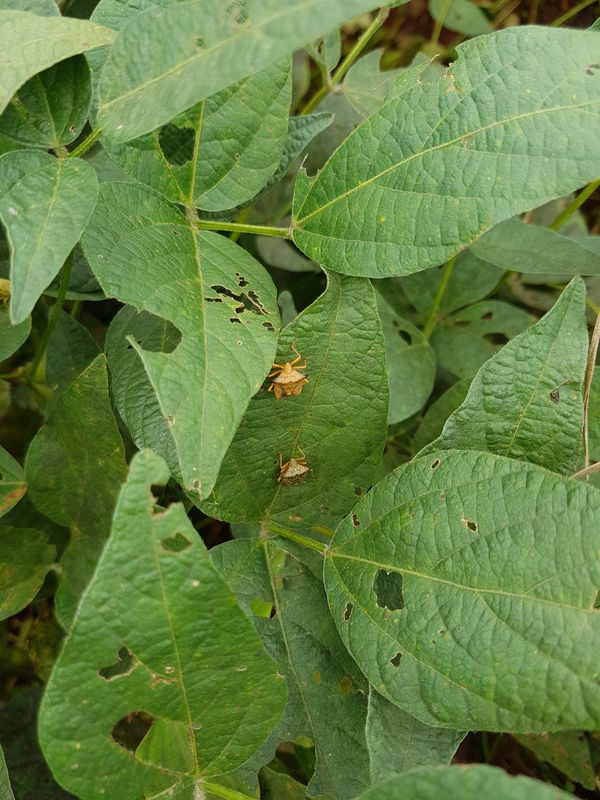Euschistus_heros_adulto: (252, 338, 323, 410), (261, 435, 329, 500)
